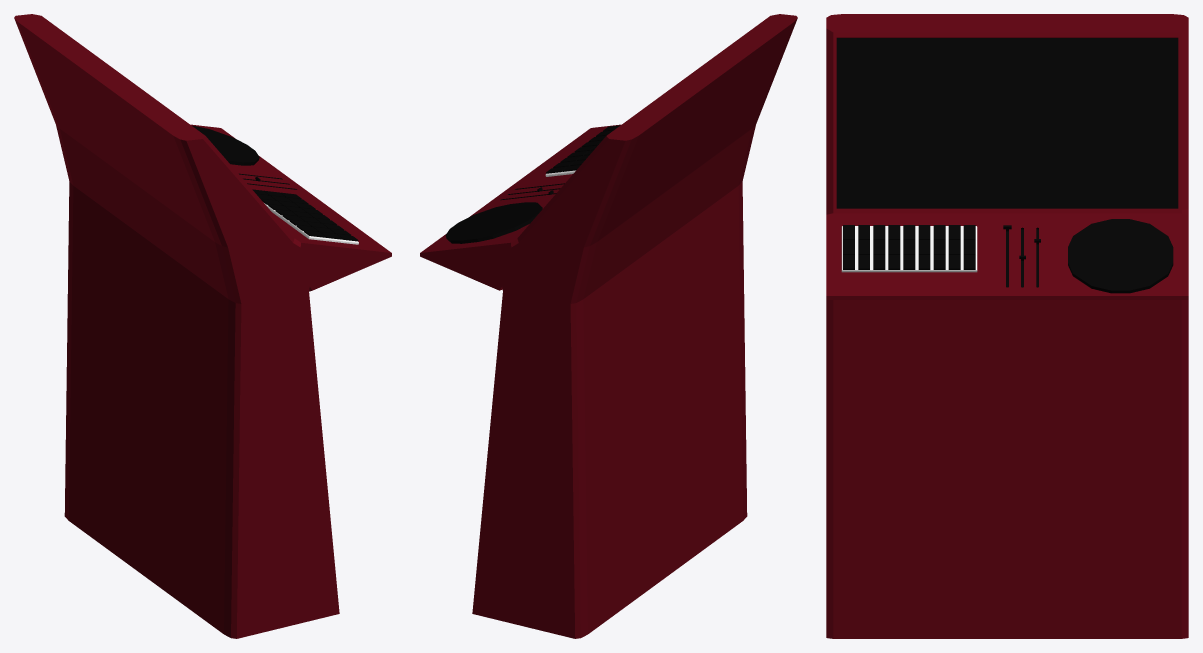
Rendered from Radar.fbx.
3 renders of one model, left to right at view 1: azimuth 30°, elevation 25°; view 2: azimuth 150°, elevation 25°; view 3: azimuth 270°, elevation 25°, orthographic. The views are drawn at different scales.
Parts seen in each view (by area): view 1: РадарВСтилеРетро; view 2: РадарВСтилеРетро; view 3: РадарВСтилеРетро.
Part boxes in pixels (box(x1,y1,x2,y2)): РадарВСтилеРетро: box(14, 14, 391, 638); РадарВСтилеРетро: box(420, 14, 797, 638); РадарВСтилеРетро: box(826, 14, 1188, 638).
Size of the model in its own units: 51.65 by 120 by 72.42.
